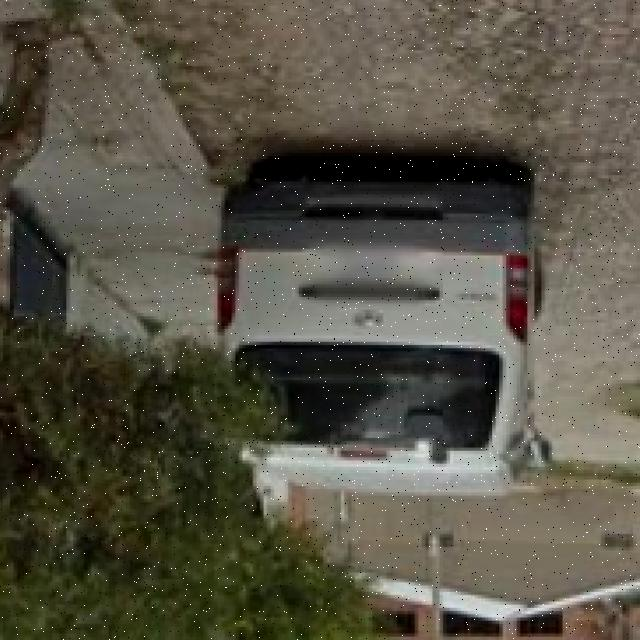car: (203, 142, 561, 493)
